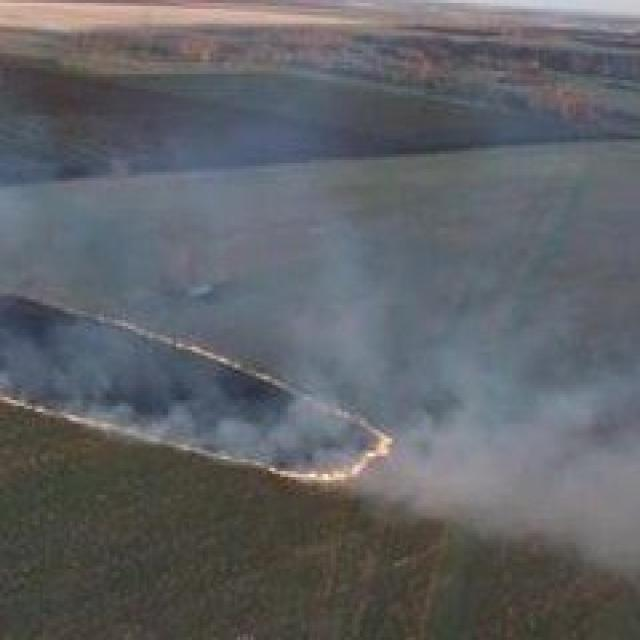Smoke: (53, 181, 639, 574)
